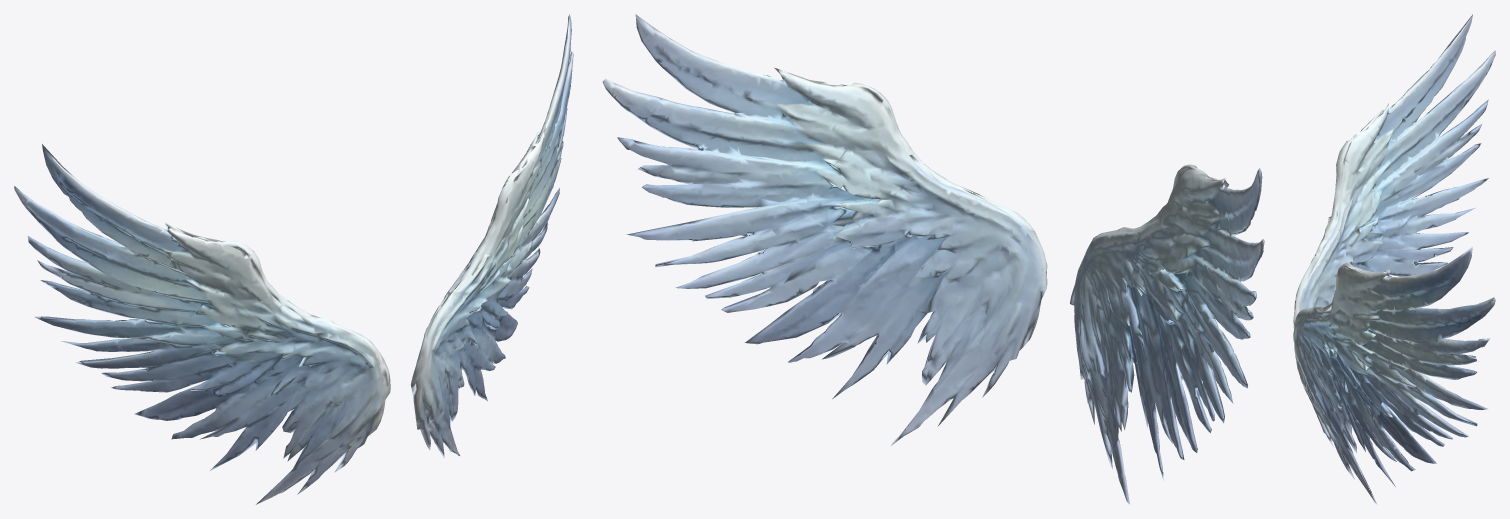
File: wings.glb
The picture shows the model from 3 angles, left to right: view 1: azimuth 30°, elevation 25°; view 2: azimuth 150°, elevation 25°; view 3: azimuth 270°, elevation 25°; orthographic projection. The views are drawn at different scales.
Parts seen in each view (by area): view 1: tripo_node_83c624bf-c9b7-4374-9049-ecedd191651d; view 2: tripo_node_83c624bf-c9b7-4374-9049-ecedd191651d; view 3: tripo_node_83c624bf-c9b7-4374-9049-ecedd191651d.
Part boxes in pixels (<box>): tripo_node_83c624bf-c9b7-4374-9049-ecedd191651d: <box>14,14,573,504</box>; tripo_node_83c624bf-c9b7-4374-9049-ecedd191651d: <box>602,14,1264,504</box>; tripo_node_83c624bf-c9b7-4374-9049-ecedd191651d: <box>1293,14,1495,504</box>.
Size of the model in its own units: 0.9962 by 0.6215 by 0.3455.
1 material, 1 textured.
